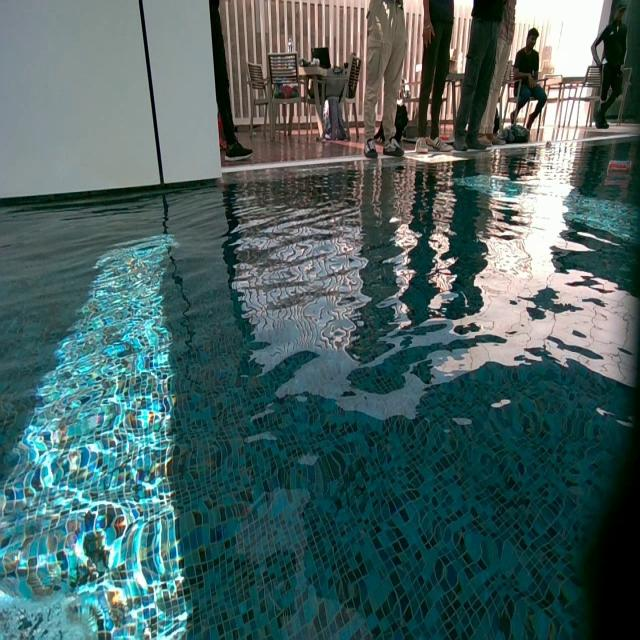Cans: (604, 159, 633, 179)
